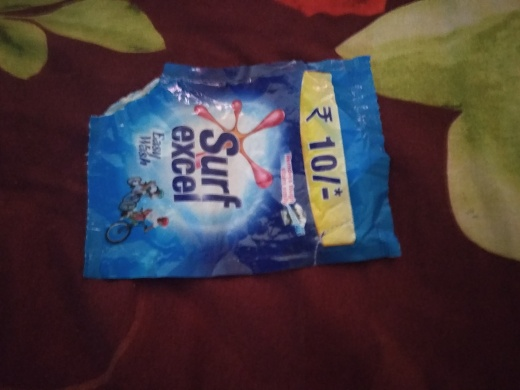surf: (74, 45, 430, 274)
